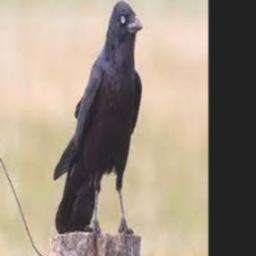Crow: (54, 0, 144, 233)
